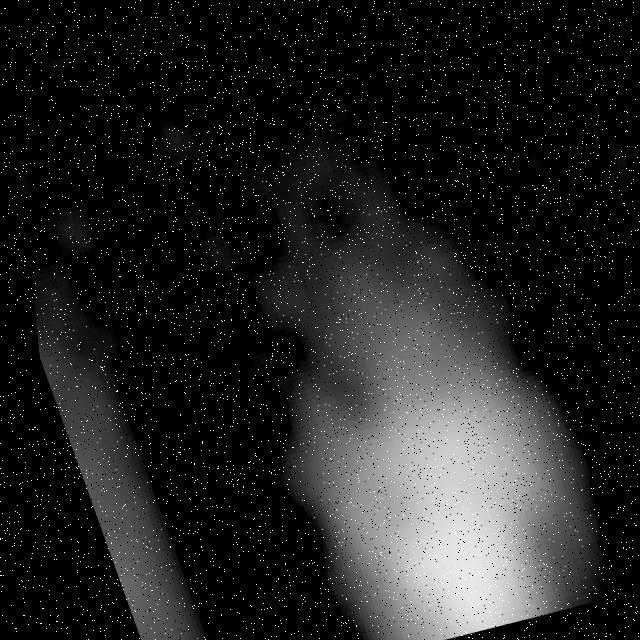person: (231, 257, 583, 640), (28, 308, 218, 640)
